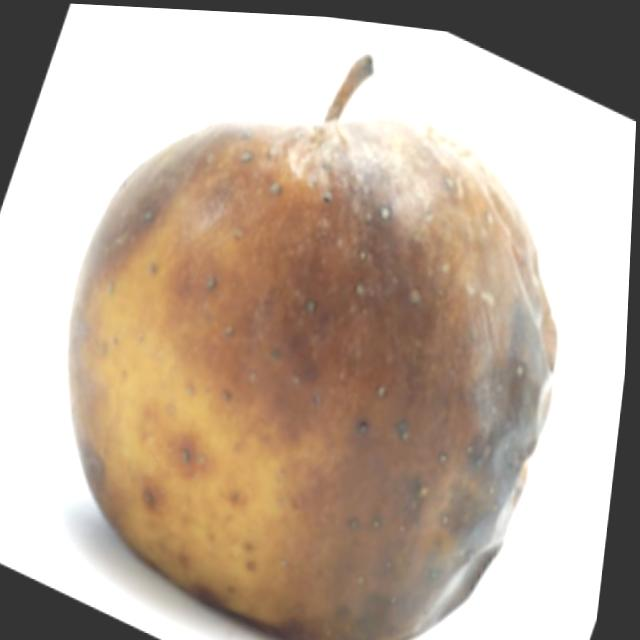organik: (8, 58, 604, 640)
